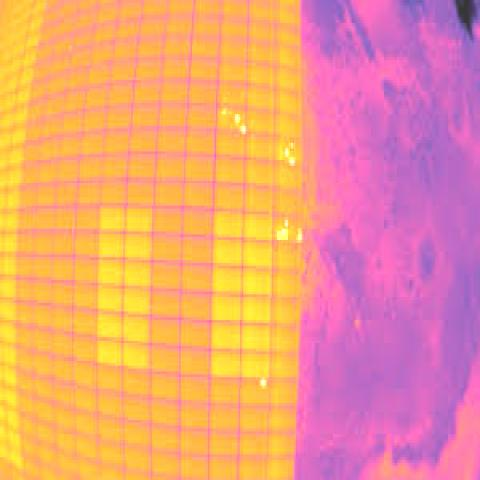fault: (259, 377, 267, 389), (288, 157, 296, 166), (282, 229, 288, 240), (238, 126, 246, 134), (283, 220, 290, 229), (298, 228, 302, 243), (283, 146, 290, 154), (234, 114, 240, 123), (277, 231, 283, 240), (221, 109, 227, 117), (290, 140, 294, 151)
